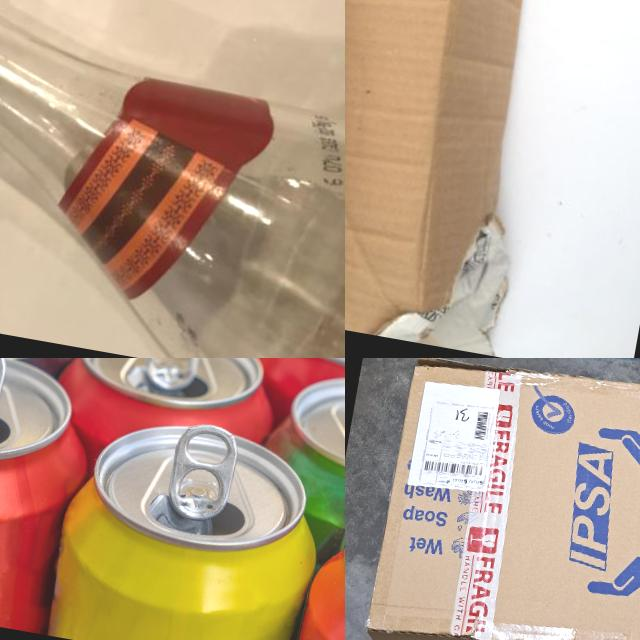aba de lata: (162, 413, 242, 528), (139, 358, 209, 394)
garrafa de vidro: (0, 0, 345, 358)
lata: (46, 404, 333, 640), (52, 358, 286, 461), (0, 358, 86, 634), (256, 363, 345, 544)
papelão: (345, 358, 640, 640), (345, 0, 578, 356)
